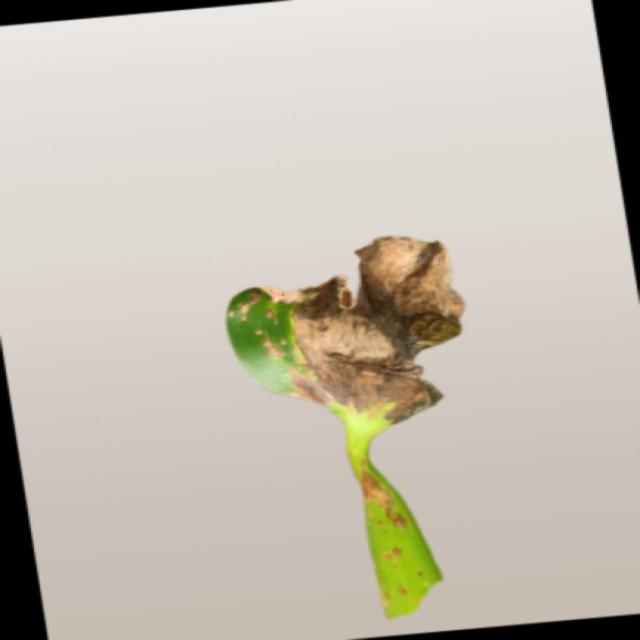daun berpenyakit karat: (227, 236, 465, 618)
